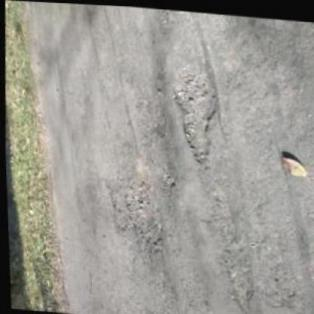Hueco: (166, 60, 219, 163), (120, 158, 163, 260), (100, 165, 126, 234), (158, 167, 178, 191)
